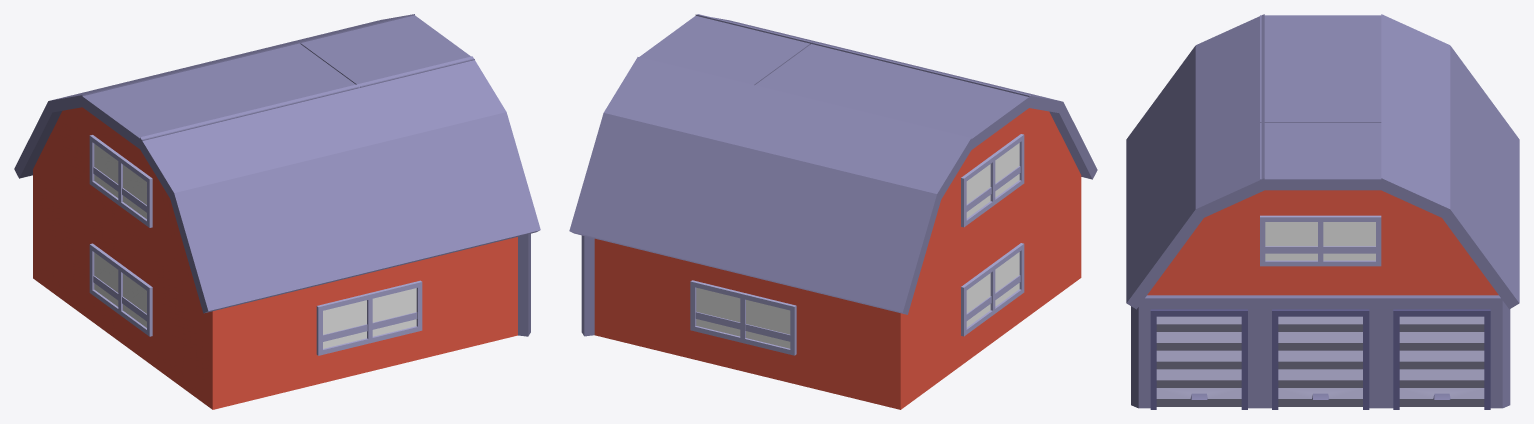
Rendered from barn.glb.
The picture shows the model from 3 angles, left to right: view 1: azimuth 30°, elevation 25°; view 2: azimuth 150°, elevation 25°; view 3: azimuth 270°, elevation 25°; orthographic projection.
Visible parts, largest first — view 1: mergedBlocks(Clone); view 2: mergedBlocks(Clone); view 3: mergedBlocks(Clone).
Part boxes in pixels (box(x1,y1,x2,y2)): mergedBlocks(Clone): box(14, 14, 540, 409); mergedBlocks(Clone): box(569, 14, 1097, 409); mergedBlocks(Clone): box(1126, 14, 1519, 409).
Size of the model in its own units: 3.2 by 2.11 by 3.24.
